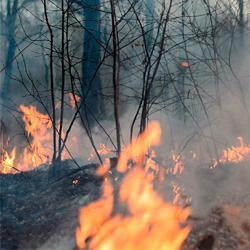fire: (86, 173, 173, 250), (19, 104, 48, 168)
